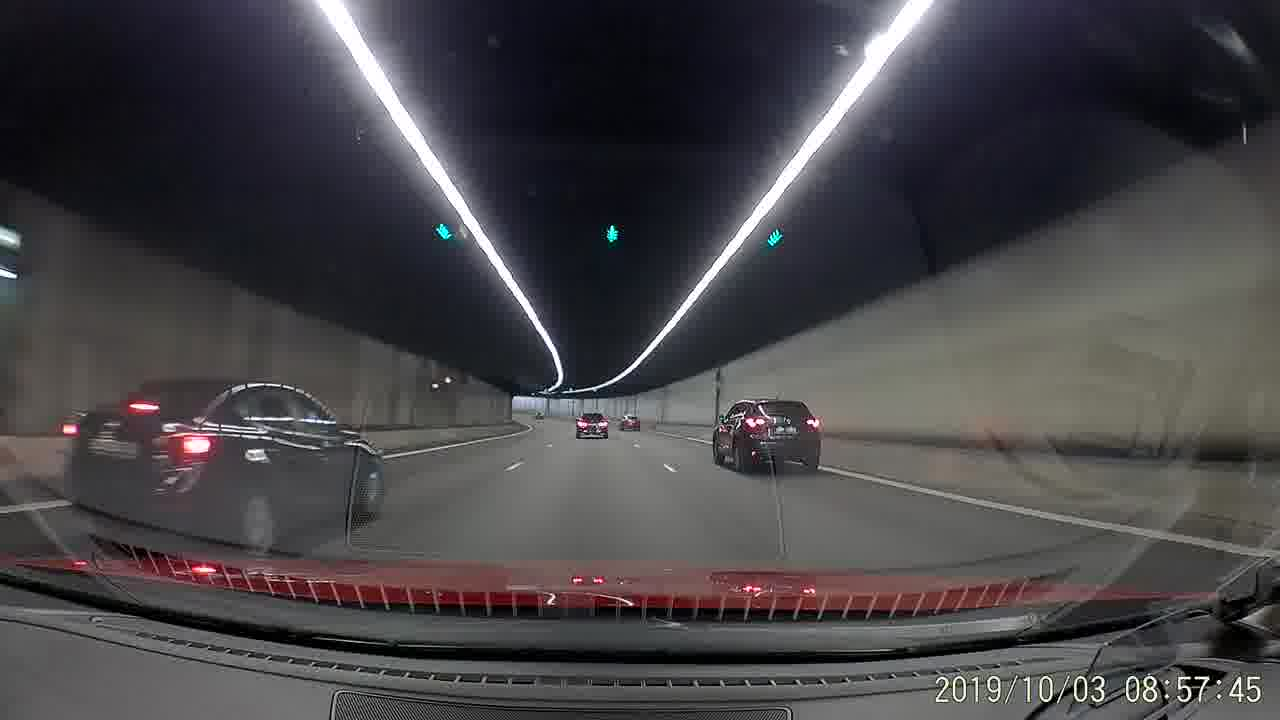car: (60, 379, 387, 558), (711, 391, 822, 478), (572, 406, 611, 443), (614, 409, 643, 433)
